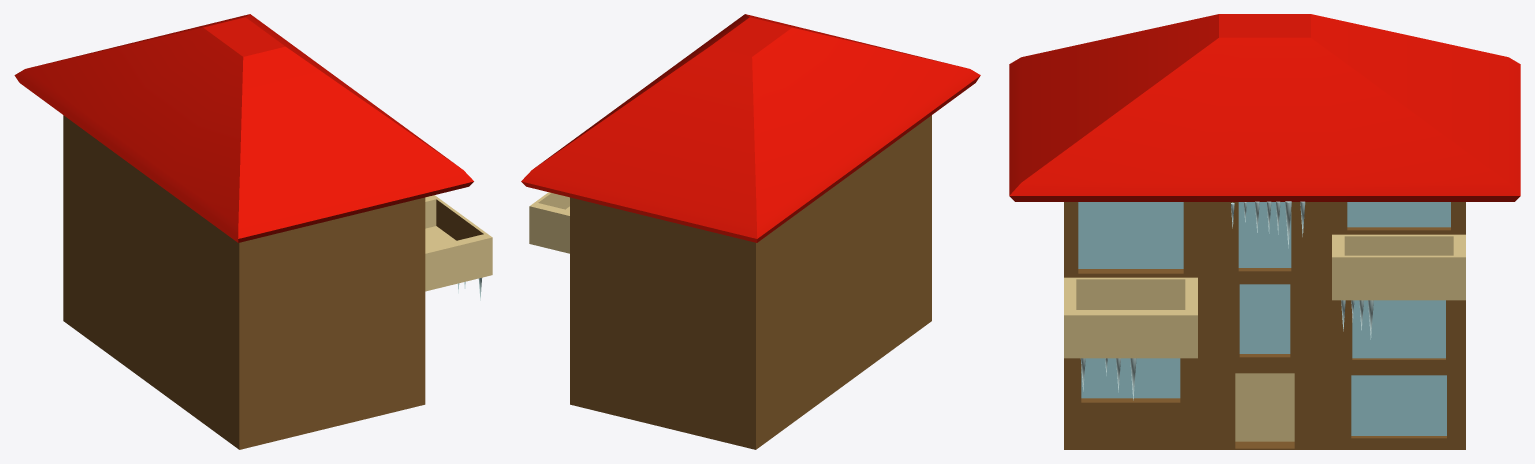
Rendered from EV VE BUZ SARKITLARI.fbx.
3 renders of one model, left to right at view 1: azimuth 30°, elevation 25°; view 2: azimuth 150°, elevation 25°; view 3: azimuth 270°, elevation 25°, orthographic. The views are drawn at different scales.
Parts seen in each view (by area): view 1: Cube.002; view 2: Cube.002; view 3: Cube.002.
Part boxes in pixels (left/top/right/bottom): Cube.002: left=14, top=14, right=492, bottom=449; Cube.002: left=521, top=14, right=980, bottom=449; Cube.002: left=1009, top=14, right=1520, bottom=449.
Bounding box in the file's own units: 5.8 × 6.49 × 8.08.
